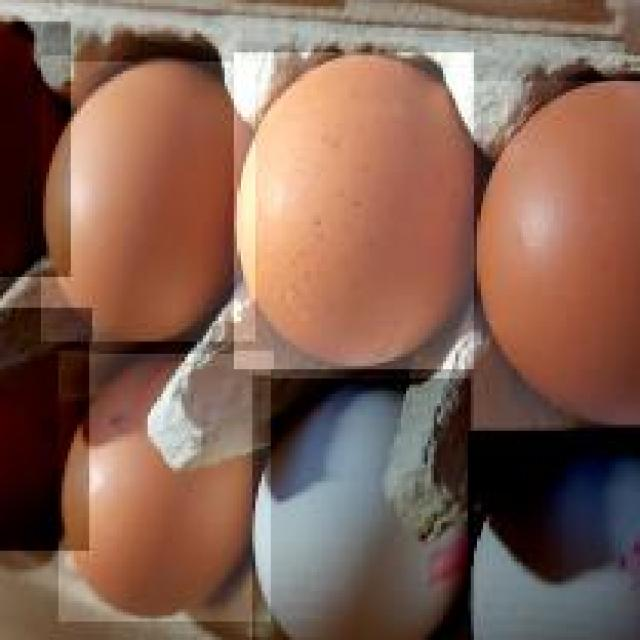egg: (234, 50, 477, 368), (40, 57, 258, 340), (252, 375, 474, 640), (58, 350, 274, 621), (474, 77, 640, 428), (467, 427, 640, 640), (0, 304, 92, 550), (0, 18, 74, 277)
